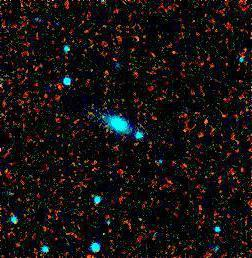star: (91, 98, 121, 128)
